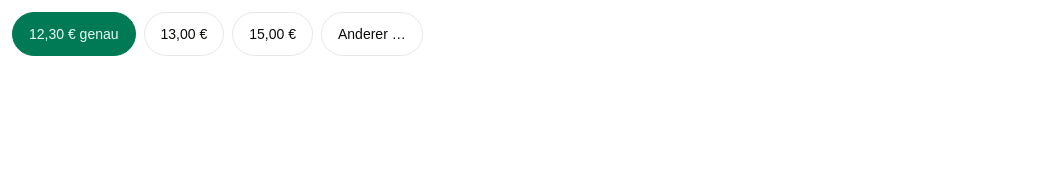
AufrundenChips › blendet über „Anderer …" das freie Euro-Feld ein
The image size is (1048, 172).
Expected: the field labelled "Zahlbetrag inkl. Trinkgeld" is not shown
Click the button "Anderer …".
click(372, 34)  # box [321,12,423,56]
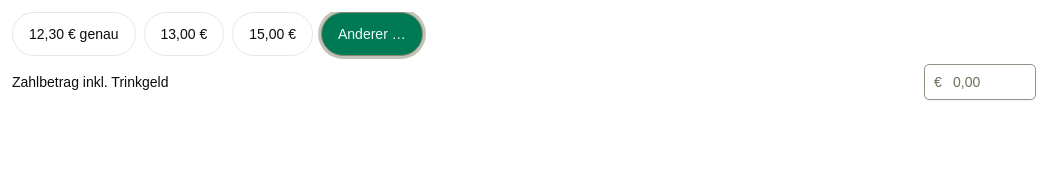
Now the field labelled "Zahlbetrag inkl. Trinkgeld" is shown
Type "14,50" into the field labelled "Zahlbetrag inkl. Trinkgeld".
click(980, 82); type("14,50")  # box [924,64,1036,100]
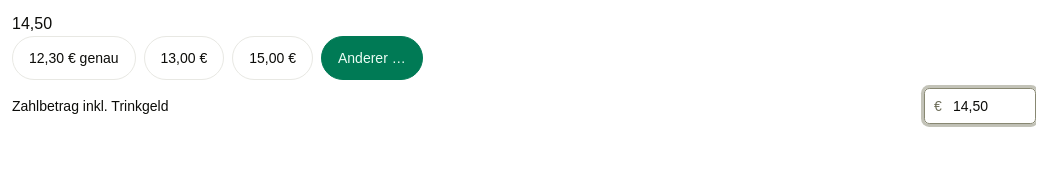
Now the text with test id "ziel" reads "14,50", box [12,15,52,32]
